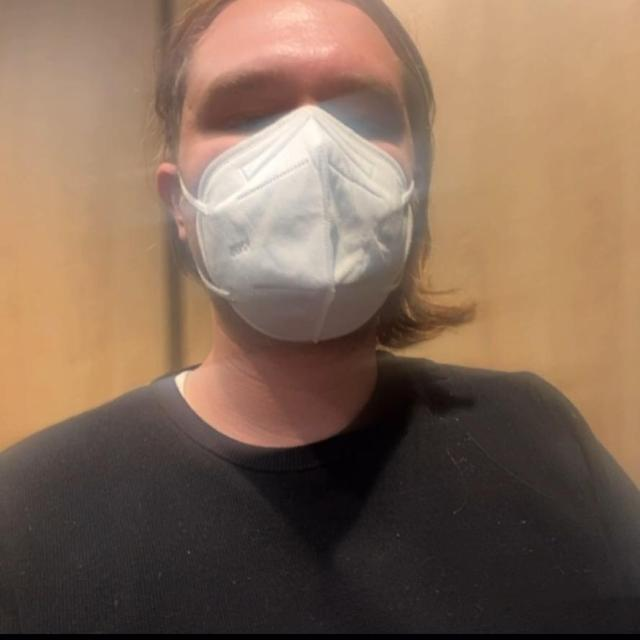no-helmet: (140, 0, 490, 399)
